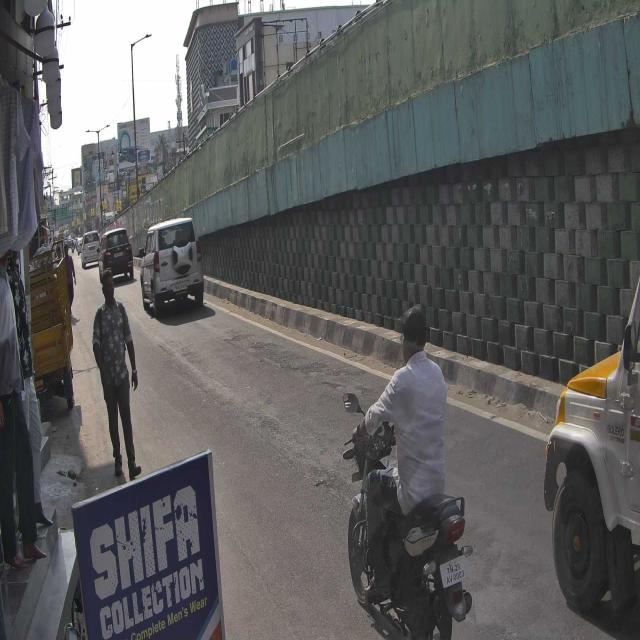single_rider: (343, 302, 473, 640)
